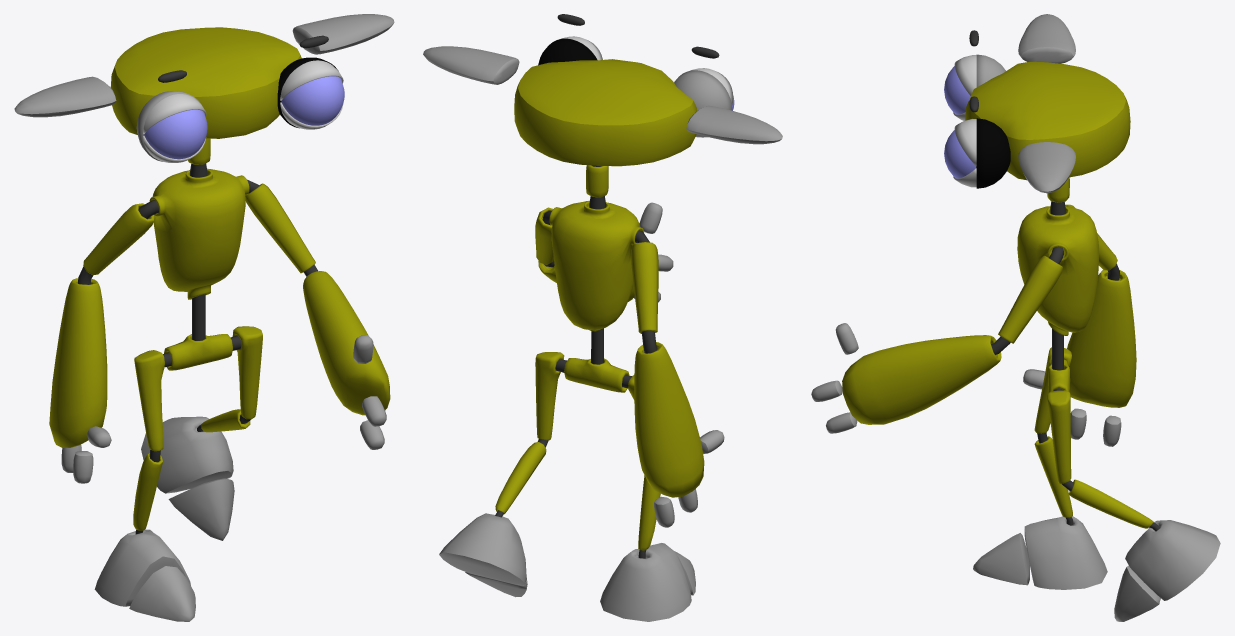
Rendered from walk6.obj.
The picture shows the model from 3 angles, left to right: view 1: azimuth 30°, elevation 25°; view 2: azimuth 150°, elevation 25°; view 3: azimuth 270°, elevation 25°; orthographic projection. The views are drawn at different scales.
Parts seen in each view (by area): view 1: Mesh polySurface50, Mesh polySurface41, Mesh polySurface37, Mesh polySurface18, Mesh polySurface48, Mesh polySurface10, Mesh polySurface26, Mesh polySurface24, Mesh polySurface8, Mesh polySurface47, Mesh polySurface51, Mesh polySurface6 (+16 smaller); view 2: Mesh polySurface41, Mesh polySurface50, Mesh polySurface37, Mesh polySurface48, Mesh polySurface26, Mesh polySurface10, Mesh polySurface47, Mesh polySurface38, Mesh polySurface44, Mesh polySurface12, Mesh polySurface21, Mesh polySurface29 (+8 smaller); view 3: Mesh polySurface18, Mesh polySurface50, Mesh polySurface41, Mesh polySurface37, Mesh polySurface10, Mesh polySurface26, Mesh polySurface48, Mesh polySurface44, Mesh polySurface51, Mesh polySurface4, Mesh polySurface12, Mesh polySurface24 (+11 smaller).
Part boxes in pixels (x1=…): Mesh polySurface50: x1=114, y1=27, x2=299, y2=96; Mesh polySurface41: x1=149, y1=168, x2=249, y2=299; Mesh polySurface37: x1=49, y1=278, x2=107, y2=447; Mesh polySurface18: x1=303, y1=271, x2=390, y2=415; Mesh polySurface48: x1=110, y1=51, x2=301, y2=138; Mesh polySurface10: x1=141, y1=416, x2=233, y2=493; Mesh polySurface26: x1=94, y1=529, x2=190, y2=606; Mesh polySurface24: x1=129, y1=566, x2=195, y2=621; Mesh polySurface8: x1=168, y1=479, x2=234, y2=540; Mesh polySurface47: x1=14, y1=76, x2=116, y2=114; Mesh polySurface51: x1=245, y1=183, x2=315, y2=273; Mesh polySurface6: x1=281, y1=76, x2=344, y2=125; Mesh polySurface41: x1=549, y1=200, x2=644, y2=331; Mesh polySurface50: x1=518, y1=59, x2=693, y2=125; Mesh polySurface37: x1=634, y1=342, x2=704, y2=497; Mesh polySurface48: x1=514, y1=82, x2=696, y2=165; Mesh polySurface26: x1=600, y1=543, x2=691, y2=621; Mesh polySurface10: x1=439, y1=513, x2=526, y2=584; Mesh polySurface47: x1=686, y1=105, x2=782, y2=141; Mesh polySurface38: x1=631, y1=242, x2=658, y2=333; Mesh polySurface44: x1=423, y1=46, x2=517, y2=81; Mesh polySurface12: x1=535, y1=352, x2=564, y2=440; Mesh polySurface21: x1=674, y1=70, x2=732, y2=137; Mesh polySurface29: x1=564, y1=358, x2=629, y2=392; Mesh polySurface18: x1=842, y1=335, x2=1001, y2=424; Mesh polySurface50: x1=969, y1=61, x2=1125, y2=139; Mesh polySurface41: x1=1017, y1=206, x2=1098, y2=335; Mesh polySurface37: x1=1067, y1=270, x2=1136, y2=407; Mesh polySurface10: x1=1125, y1=520, x2=1220, y2=600; Mesh polySurface26: x1=1024, y1=516, x2=1107, y2=589; Mesh polySurface48: x1=965, y1=95, x2=1130, y2=180; Mesh polySurface44: x1=1018, y1=142, x2=1075, y2=191; Mesh polySurface51: x1=998, y1=256, x2=1062, y2=343; Mesh polySurface4: x1=976, y1=118, x2=1010, y2=188; Mesh polySurface12: x1=1047, y1=390, x2=1071, y2=483; Mesh polySurface24: x1=973, y1=533, x2=1027, y2=585.
Size of the model in its own units: 10.05 by 14.11 by 9.86.
